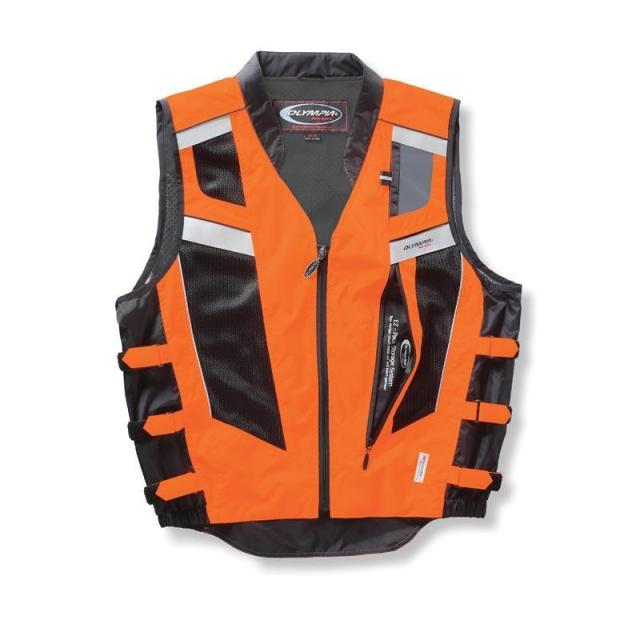Vest: (114, 49, 526, 558)
